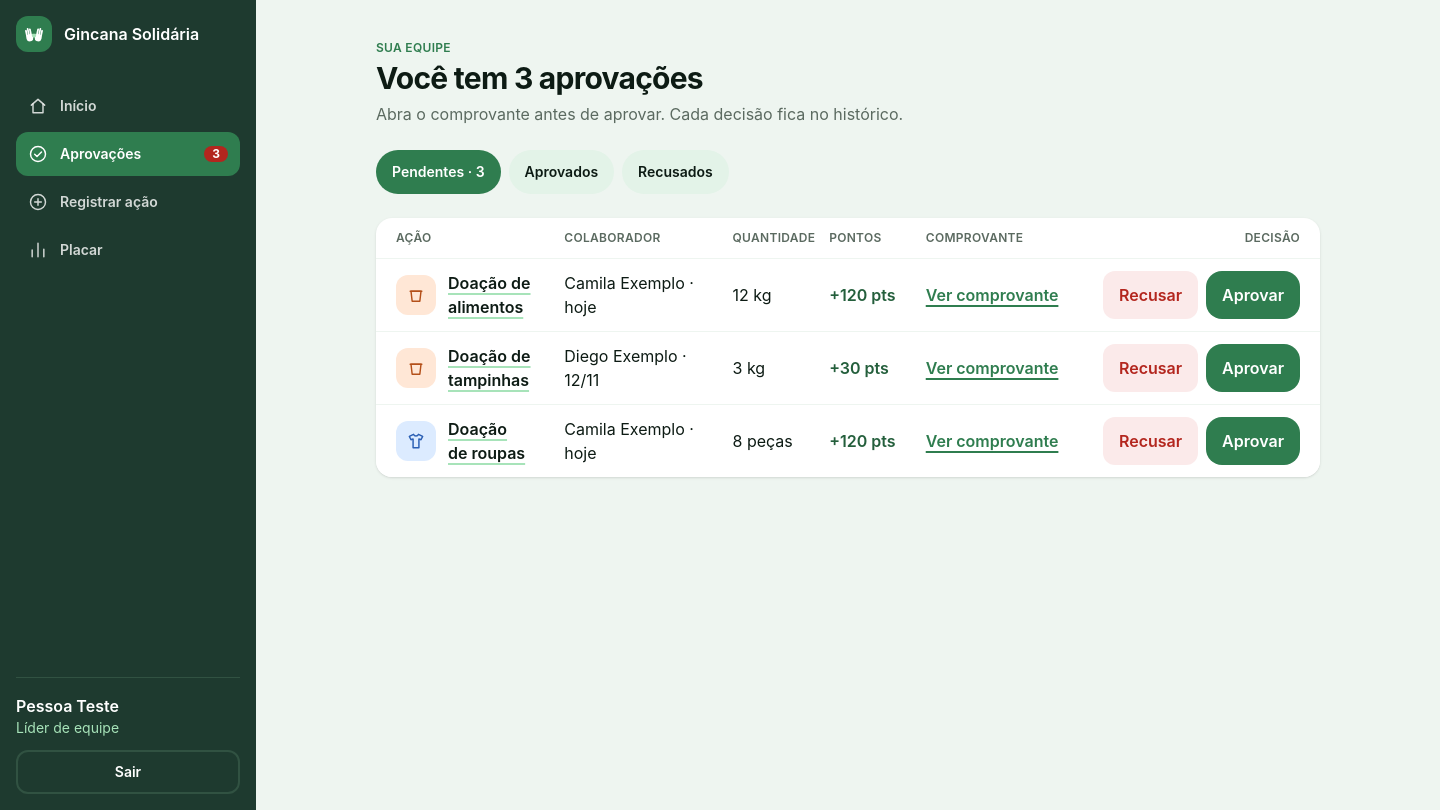
Test case: Fila de aprovações (US08) › recusar › abre um diálogo que pede o motivo, com o foco no campo
The image size is (1440, 810).
Click the button with aria-label "Recusar Doação de alimentos de Camila Exemplo".
click(1151, 294)  # box [1103, 270, 1198, 318]
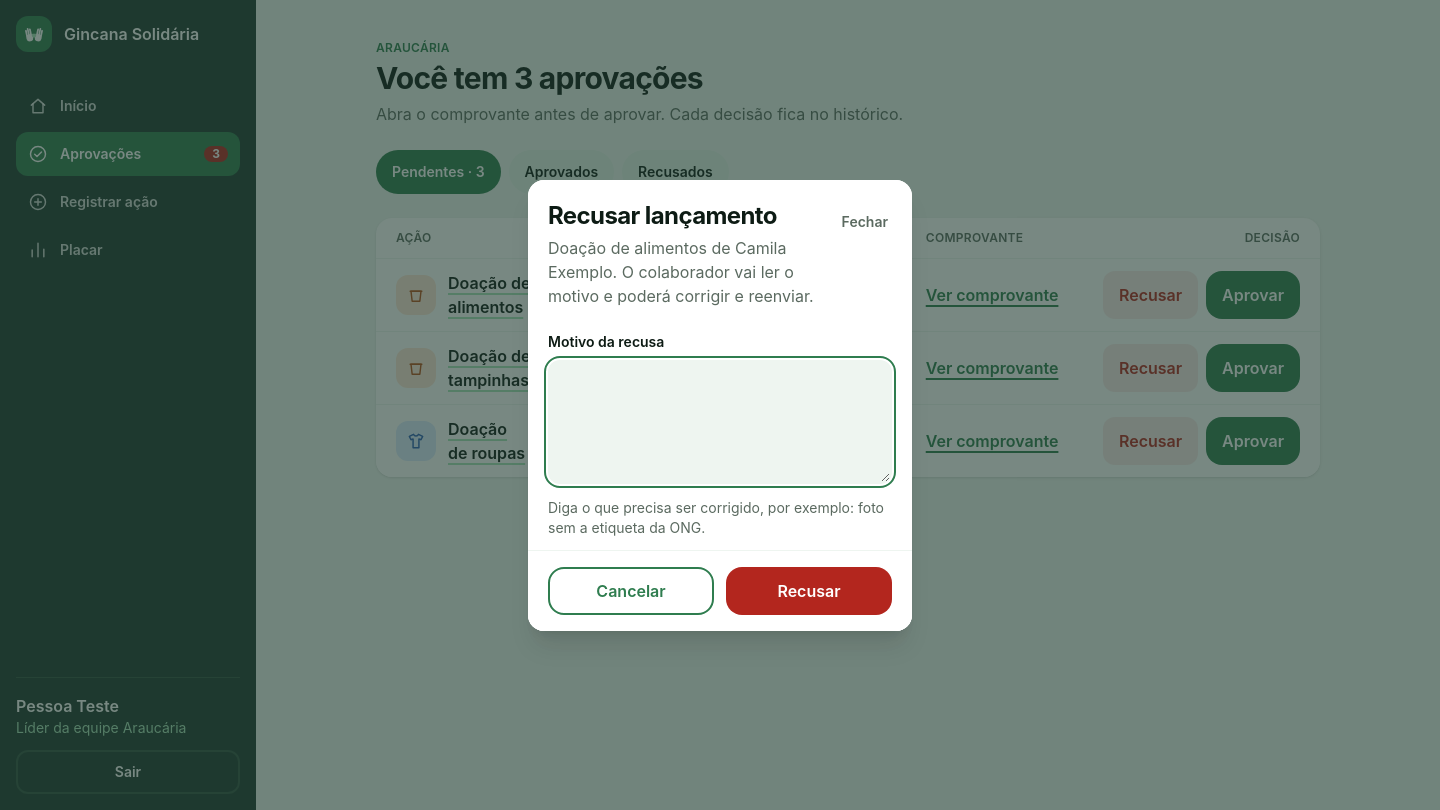
Expected: the dialog "Recusar lançamento" shows "Doação de alimentos de Camila Exemplo", [548, 238, 814, 306]
Expected: the dialog "Recusar lançamento" shows "poderá corrigir e reenviar", [548, 238, 814, 306]
